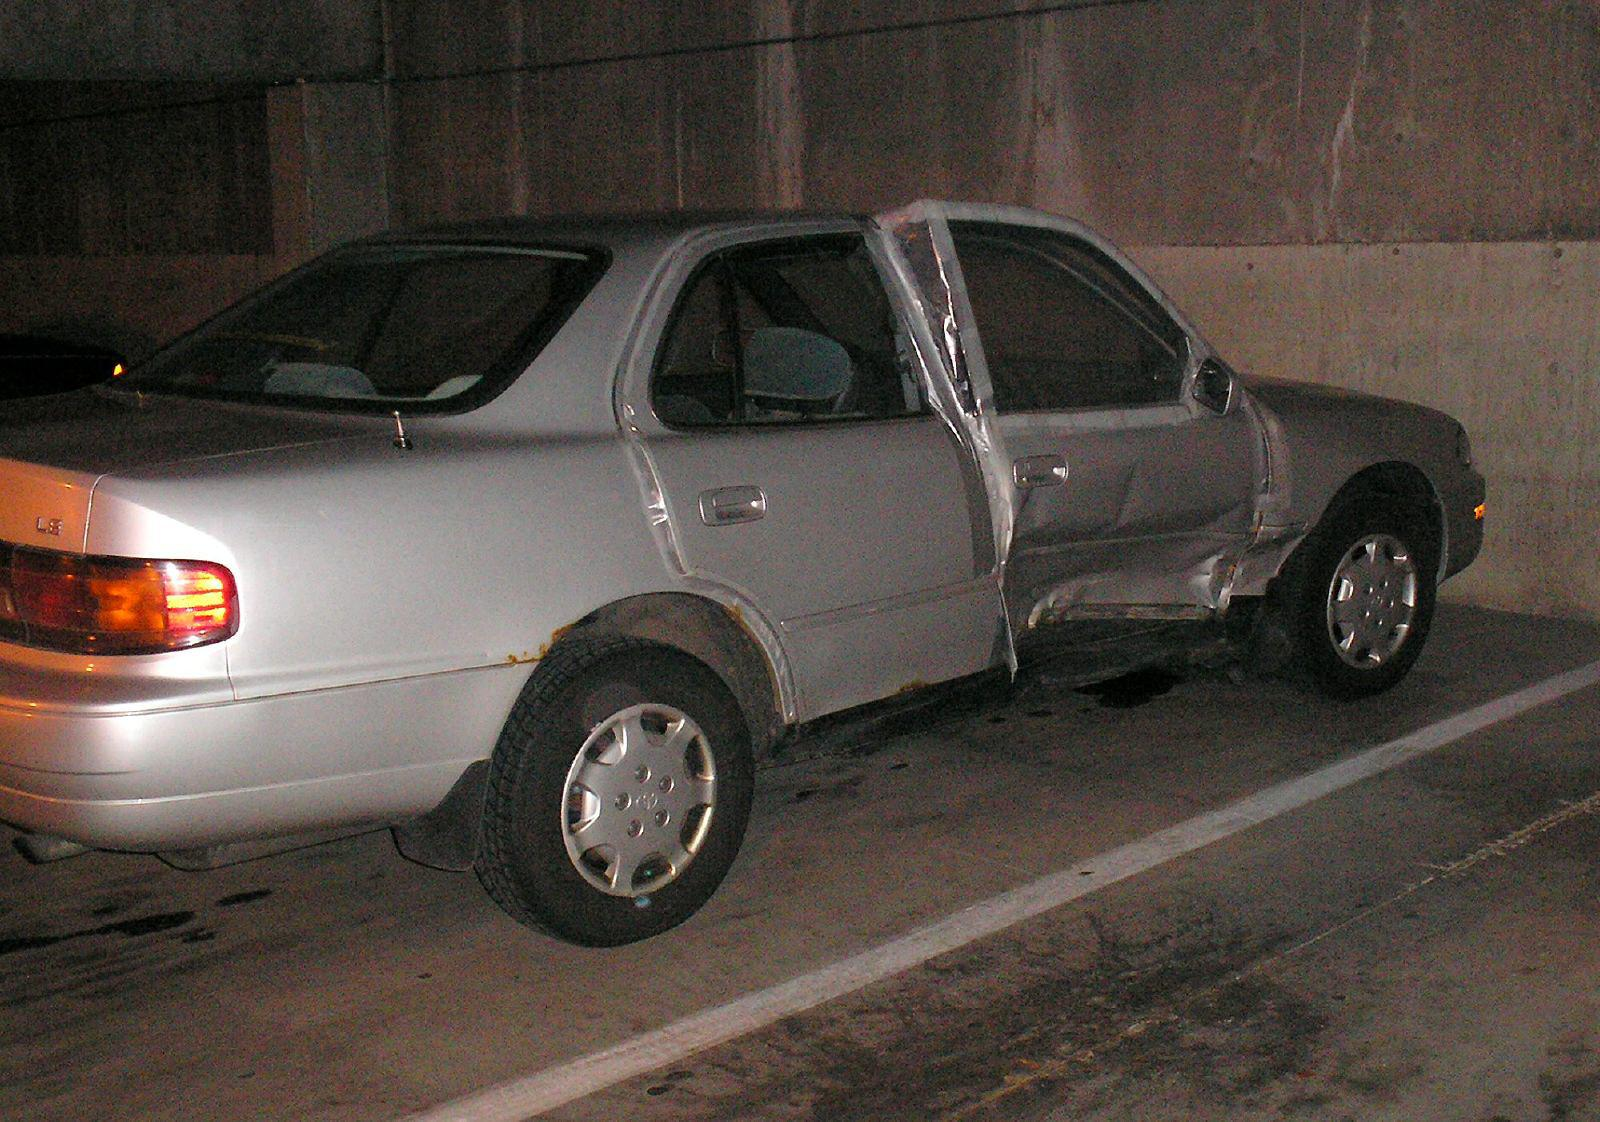doorouter-dent: (916, 197, 1288, 690)
